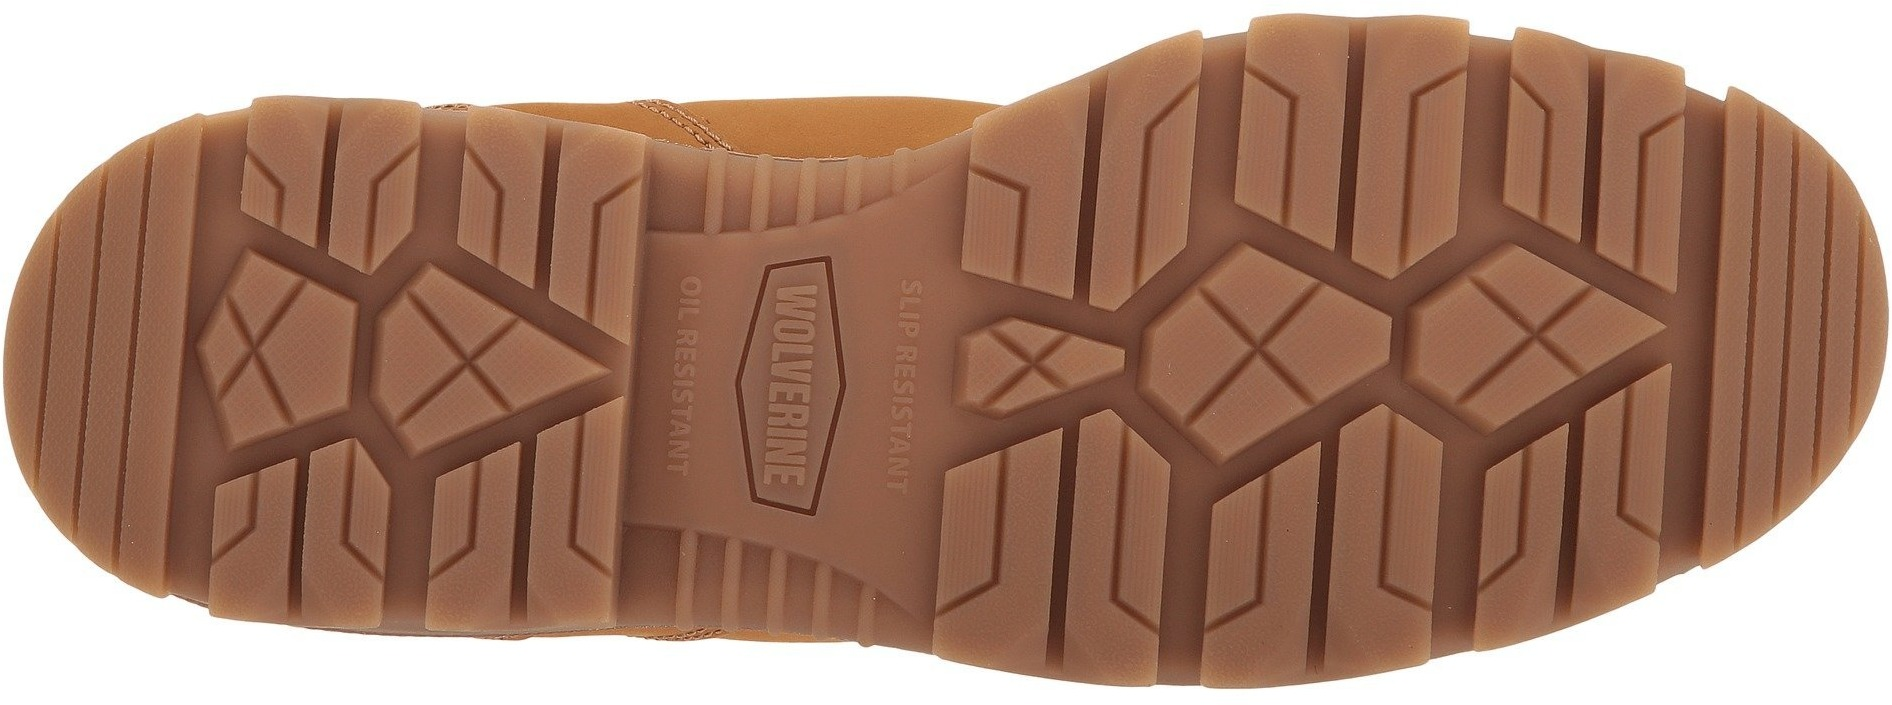circle: (725, 239, 864, 540), (653, 269, 720, 343), (763, 305, 828, 353), (677, 255, 719, 295)
line: (1715, 239, 1881, 413), (11, 278, 183, 438), (664, 519, 796, 630), (697, 155, 824, 263)
polygon: (1391, 226, 1686, 436), (358, 261, 630, 486), (711, 243, 868, 547), (725, 239, 864, 540), (181, 239, 378, 450), (194, 239, 372, 459), (947, 296, 1146, 423)
quad: (1195, 418, 1454, 682), (1482, 21, 1707, 314), (1391, 226, 1686, 436), (1226, 21, 1481, 262), (358, 261, 630, 486), (383, 392, 623, 623), (428, 120, 643, 359), (194, 239, 372, 459), (206, 431, 396, 623), (947, 296, 1146, 423), (946, 158, 1050, 321), (983, 295, 1076, 429)
text: (725, 239, 864, 540), (757, 284, 839, 360), (747, 423, 830, 497), (755, 360, 828, 431), (874, 268, 945, 340), (653, 269, 720, 343), (655, 266, 717, 330)
triangle: (1493, 235, 1683, 430)
